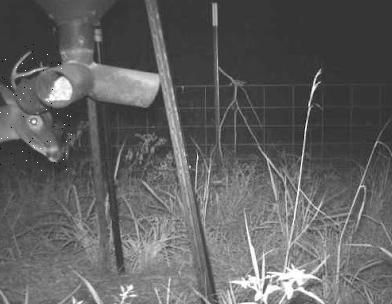Deer: (0, 40, 72, 172)
